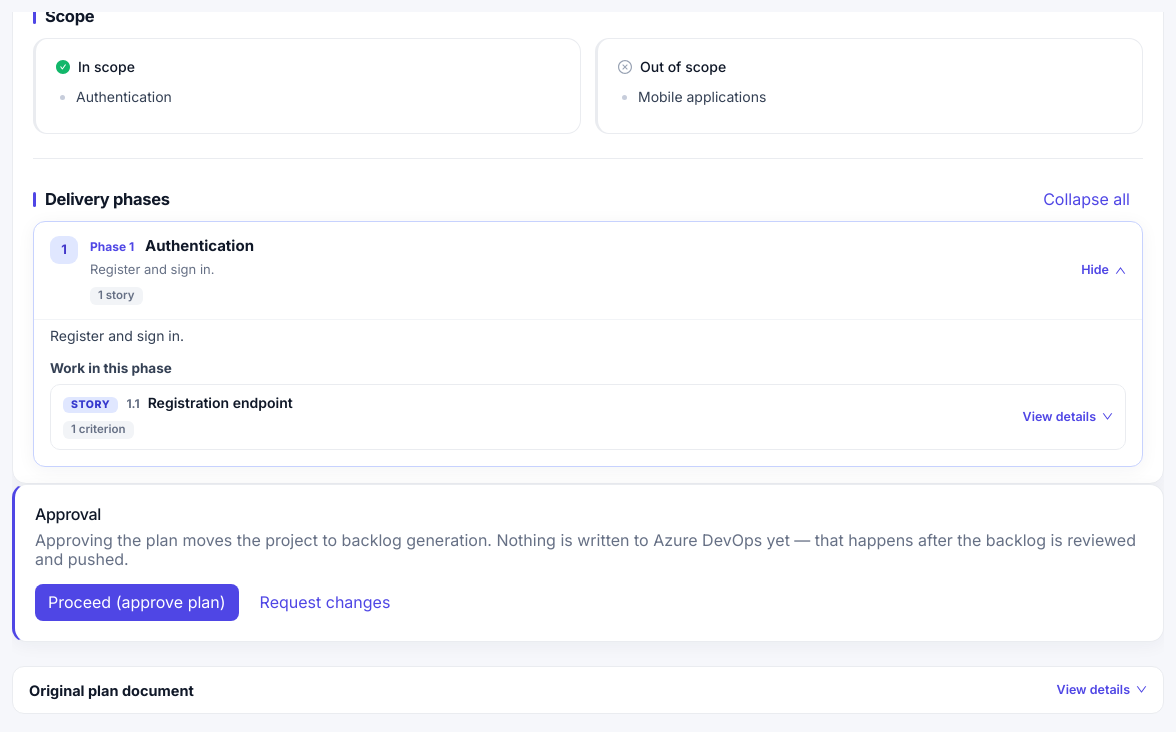
Test case: PlanReview › reveals a story and its acceptance criteria when a phase is expanded
The width and height of the screenshot is (1176, 732).
(page scrolled)
Step 1. Click the button "Story 1.1 Registration endpoint 1 criterion View details" → click(91, 405), box [51, 385, 1125, 449]
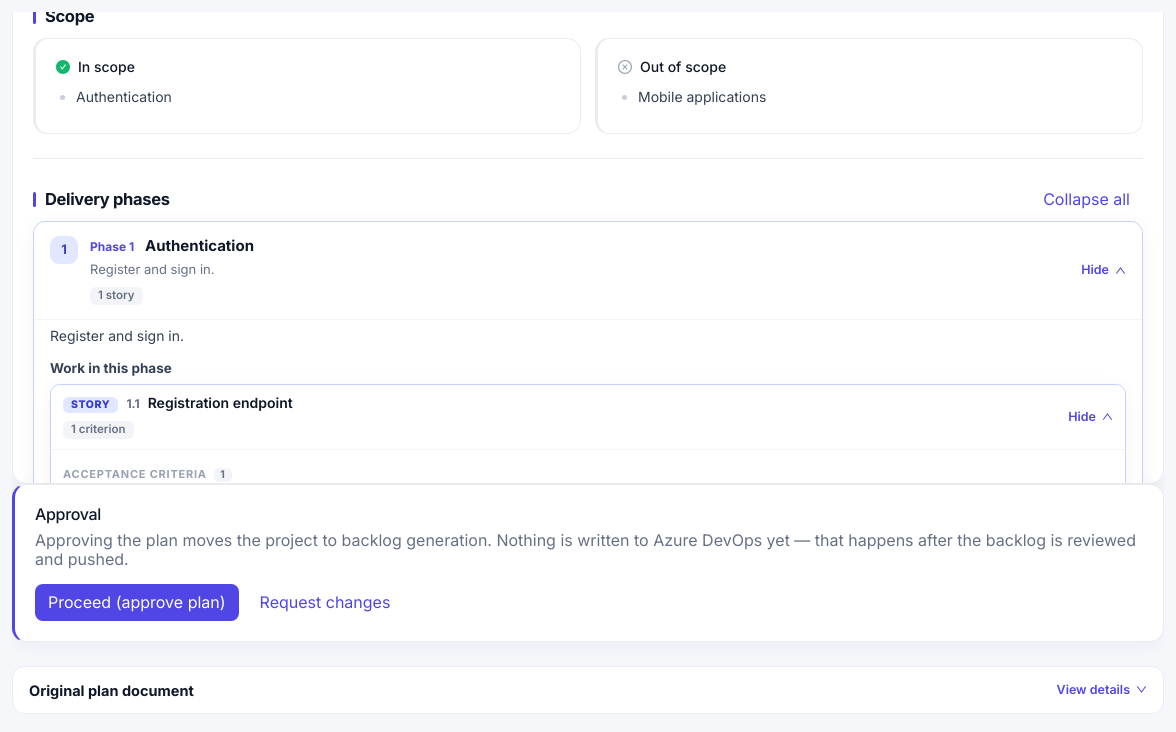
Expected: the heading "Acceptance criteria 1" is shown, [63, 467, 232, 482]
